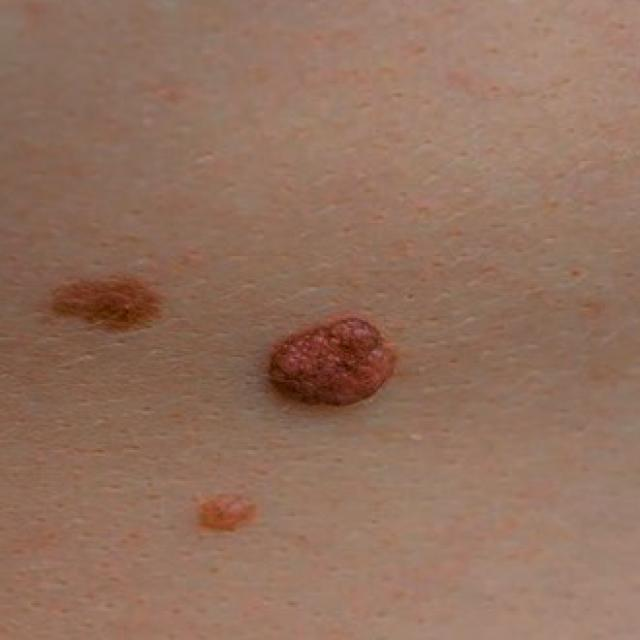wart: (248, 314, 411, 409)
